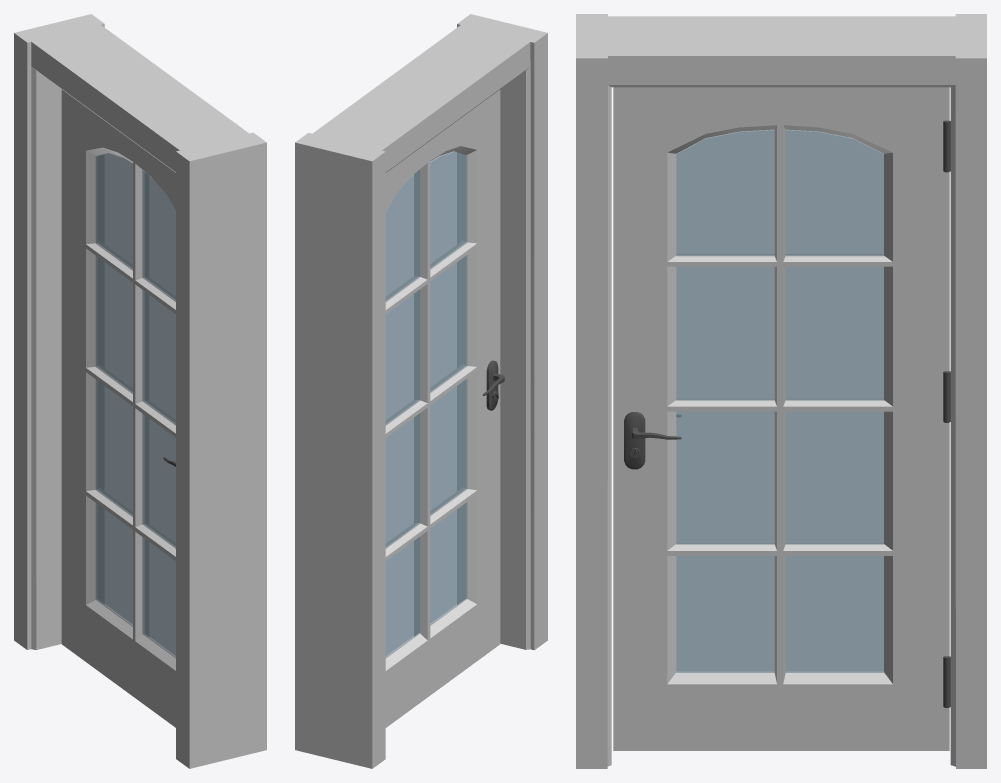
File: Door03_open.FBX
The picture shows the model from 3 angles, left to right: view 1: azimuth 30°, elevation 25°; view 2: azimuth 150°, elevation 25°; view 3: azimuth 270°, elevation 25°; orthographic projection. The views are drawn at different scales.
Visible parts, largest first — view 1: Door03_open; view 2: Door03_open; view 3: Door03_open.
Part boxes in pixels (bbox=[...]): Door03_open: bbox=[14, 14, 266, 768]; Door03_open: bbox=[295, 14, 547, 768]; Door03_open: bbox=[576, 14, 986, 768].
Size of the model in its own units: 28 by 110 by 210.
